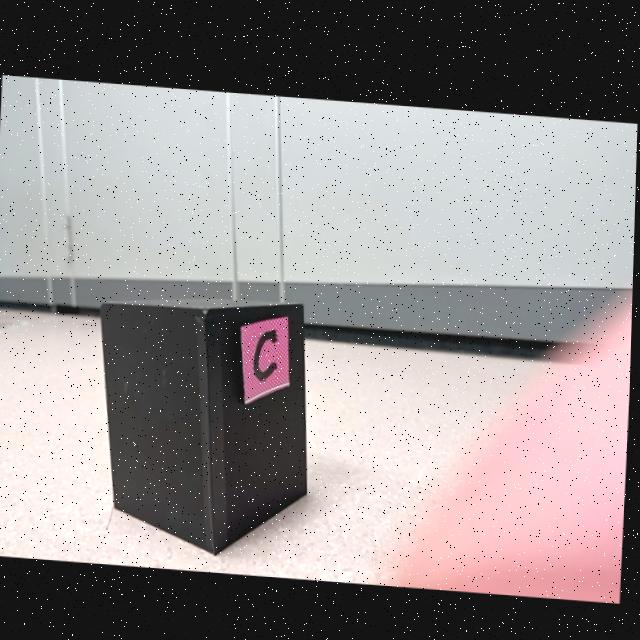C: (256, 326, 279, 376)
